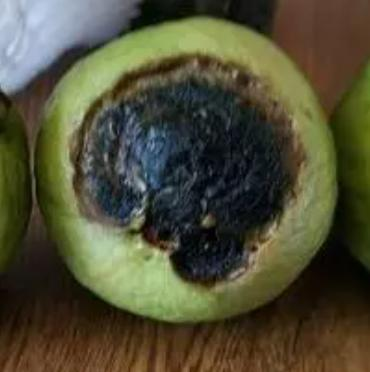guava_C: (33, 16, 338, 324)
